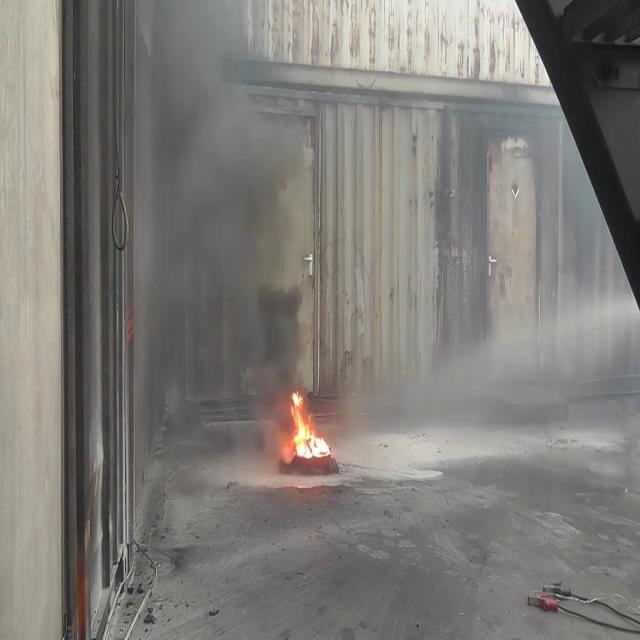Fire: (286, 384, 332, 466)
Smoke: (134, 3, 299, 480)
